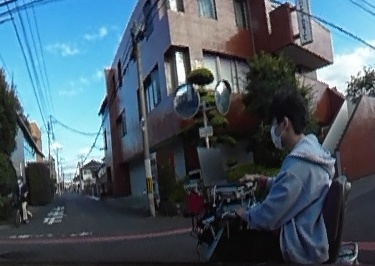person: (244, 91, 335, 266), (15, 174, 29, 219)
